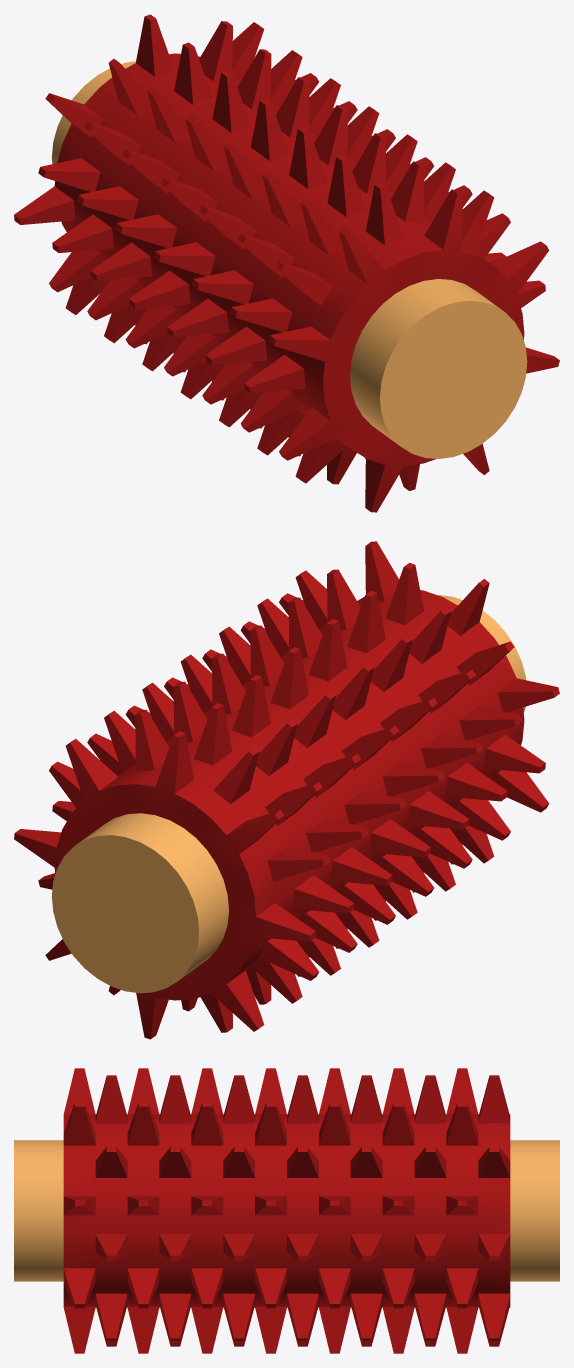
Rendered from nghien.fbx.
The picture shows the model from 3 angles, top to bottom: view 1: azimuth 30°, elevation 25°; view 2: azimuth 150°, elevation 25°; view 3: azimuth 270°, elevation 25°; orthographic projection. The views are drawn at different scales.
Visible parts, largest first — view 1: Cylinder.000; view 2: Cylinder.000; view 3: Cylinder.000.
Part boxes in pixels (<box>): Cylinder.000: <box>14,14,559,512</box>; Cylinder.000: <box>14,541,559,1039</box>; Cylinder.000: <box>14,1068,559,1353</box>.
Size of the model in its own units: 84.91 by 84.91 by 163.
